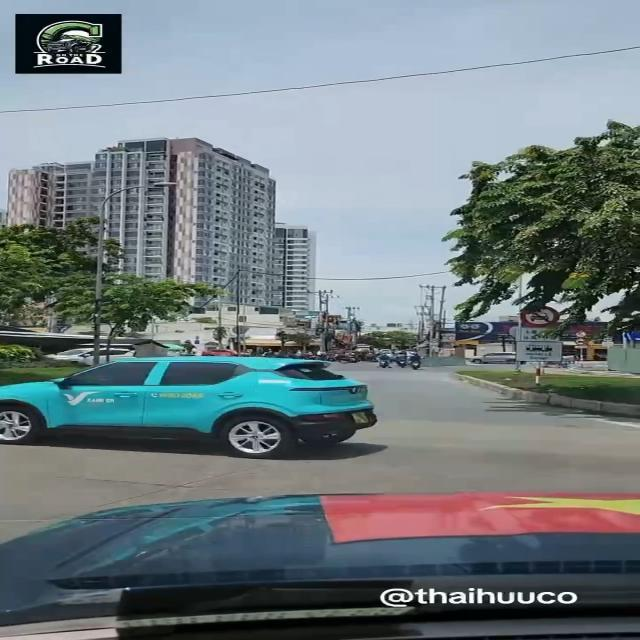103a-cam-oto: (518, 304, 564, 328)
